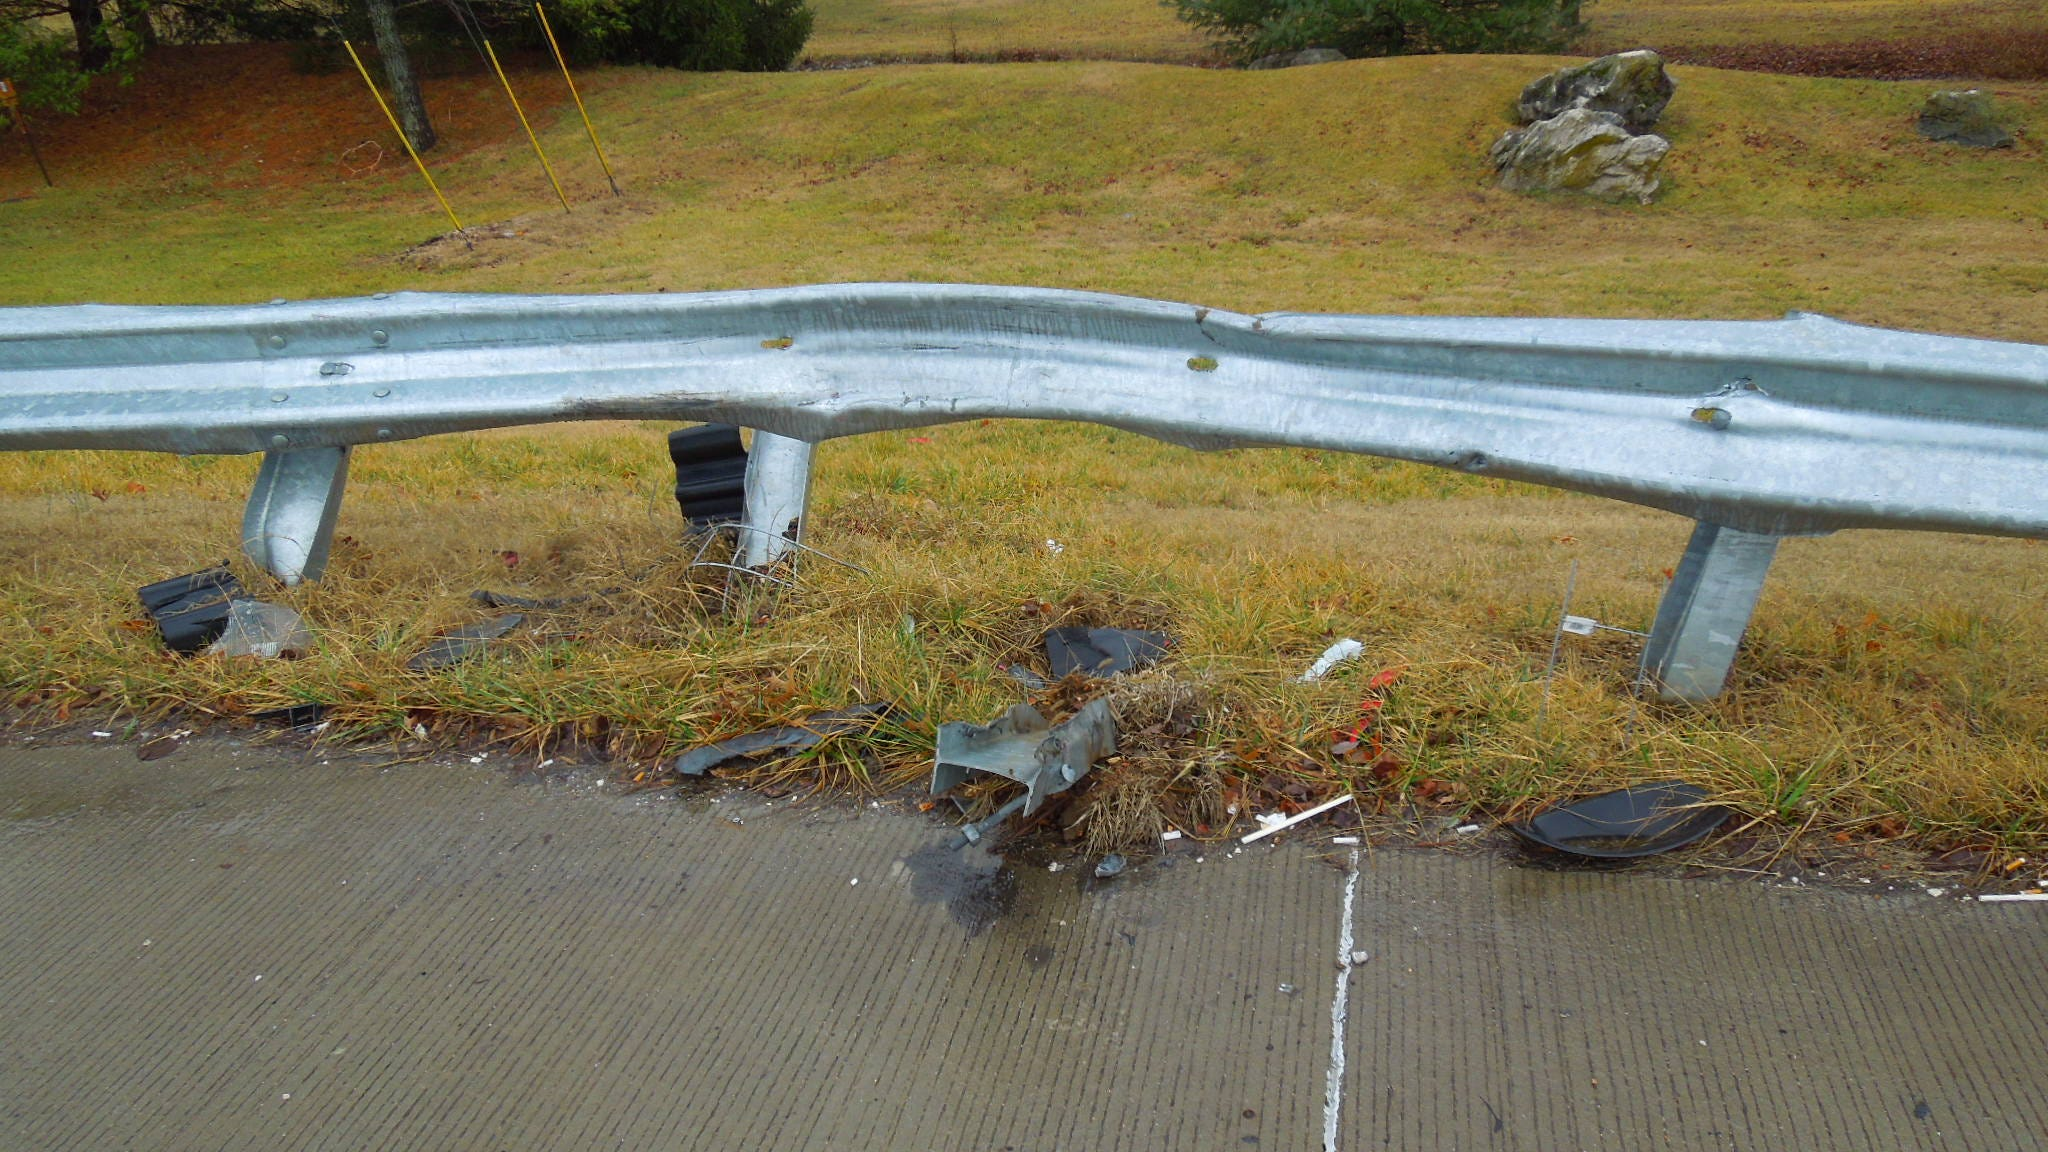damaged: (53, 231, 1999, 591)
